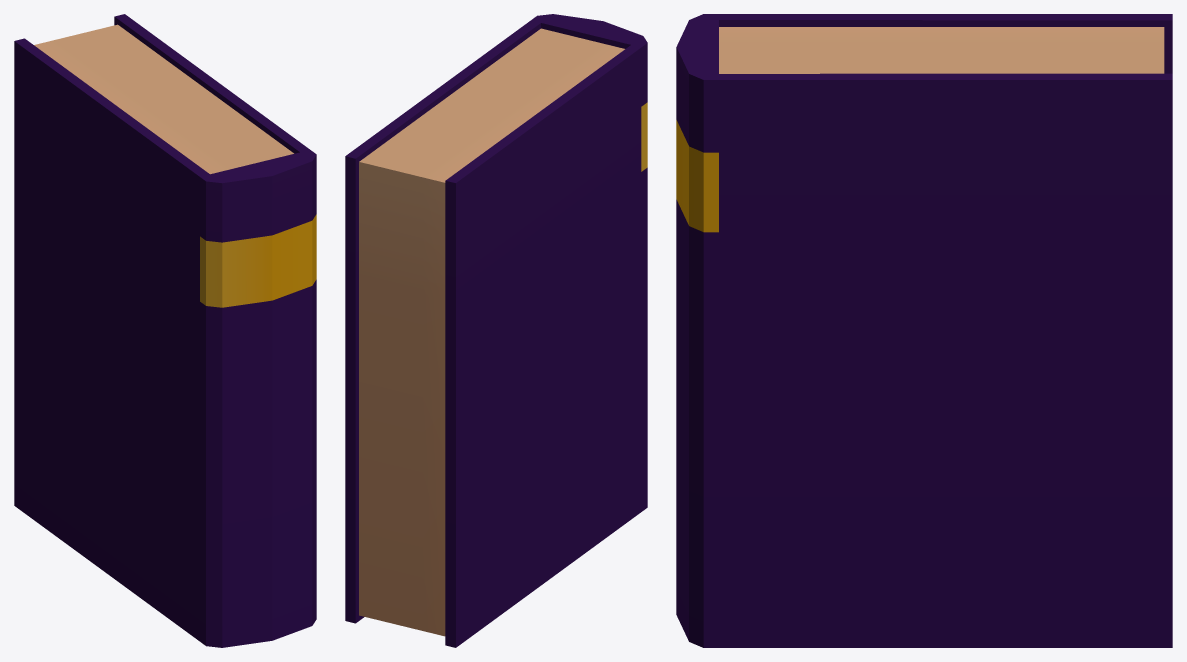
The model's file is Book_blue_B.fbx.
3 views of the same model, side by side, from view 1: azimuth 30°, elevation 25°; view 2: azimuth 150°, elevation 25°; view 3: azimuth 270°, elevation 25° (orthographic). The views are drawn at different scales.
Visible parts, largest first — view 1: Book_blue_B; view 2: Book_blue_B; view 3: Book_blue_B.
Part boxes in pixels (x1,y1,x2,y2): Book_blue_B: (14, 14, 316, 647); Book_blue_B: (345, 14, 647, 647); Book_blue_B: (676, 14, 1172, 647).
Size of the model in its own units: 6.32 by 25.38 by 20.08.
